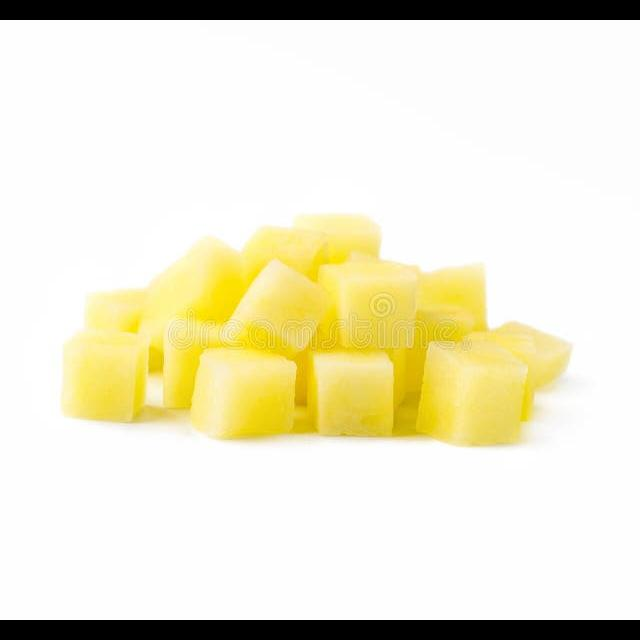potato: (52, 219, 556, 457)
